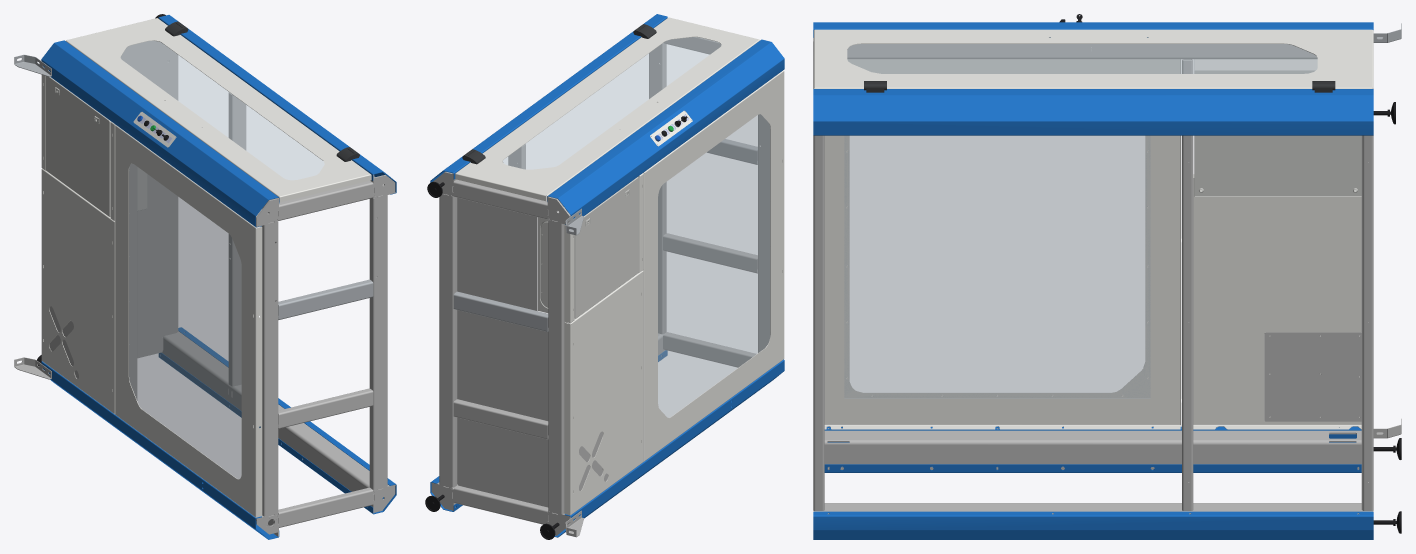
File: flex7-frame.glb
The picture shows the model from 3 angles, left to right: view 1: azimuth 30°, elevation 25°; view 2: azimuth 150°, elevation 25°; view 3: azimuth 270°, elevation 25°; orthographic projection. The views are drawn at different scales.
Visible parts, largest first — view 1: 100123_10_Flex7IMM_ogrodje_plocevina_sestav_mesh, 100123_10_Glavna_vrata_sestav_mesh; view 2: 100123_10_Flex7IMM_ogrodje_plocevina_sestav_mesh, 100123_10_Glavna_vrata_sestav_mesh; view 3: 100123_10_Flex7IMM_ogrodje_plocevina_sestav_mesh, 100123_10_Glavna_vrata_sestav_mesh.
Boxes of the visible parts, x1,y1,x2,y2 form: 100123_10_Flex7IMM_ogrodje_plocevina_sestav_mesh: (14, 14, 396, 539); 100123_10_Glavna_vrata_sestav_mesh: (66, 18, 371, 202); 100123_10_Flex7IMM_ogrodje_plocevina_sestav_mesh: (425, 14, 784, 539); 100123_10_Glavna_vrata_sestav_mesh: (455, 17, 759, 201); 100123_10_Flex7IMM_ogrodje_plocevina_sestav_mesh: (813, 14, 1401, 539); 100123_10_Glavna_vrata_sestav_mesh: (814, 29, 1373, 88).
Bounding box in the file's own units: 846 × 1780 × 2100.
